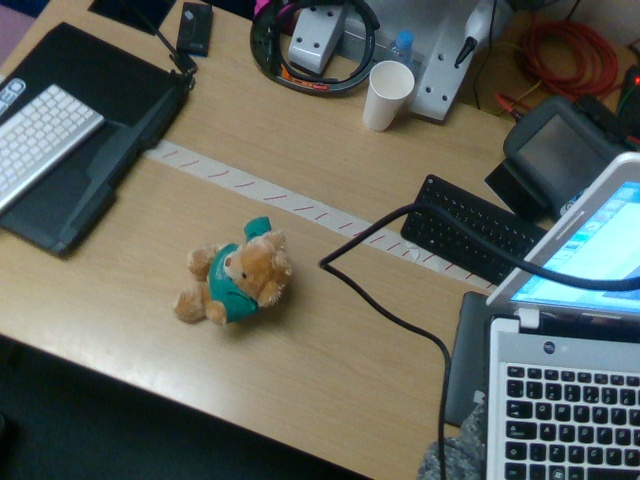teddy: (174, 216, 293, 325)
